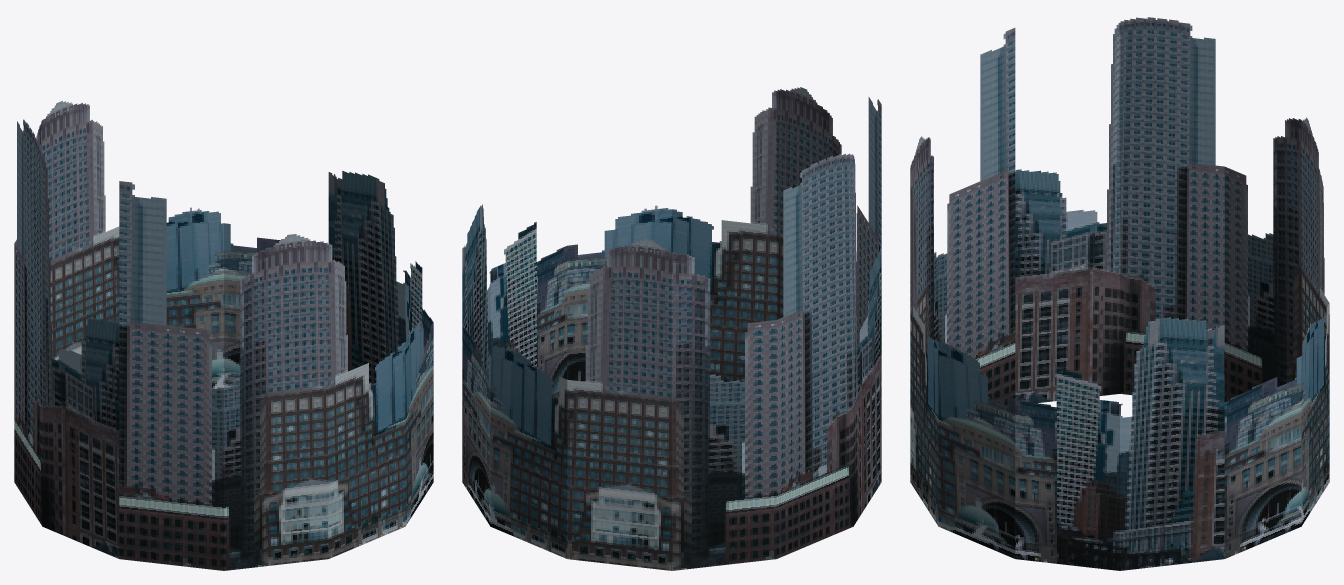
File: citySkybox.glb
3 views of the same model, side by side, from view 1: azimuth 30°, elevation 25°; view 2: azimuth 150°, elevation 25°; view 3: azimuth 270°, elevation 25° (orthographic).
Parts seen in each view (by area): view 1: Cylinder; view 2: Cylinder; view 3: Cylinder.
Part boxes in pixels (x1,y1,x2,y2): Cylinder: [14, 101, 433, 570]; Cylinder: [462, 87, 881, 570]; Cylinder: [910, 17, 1329, 570].
Size of the model in its own units: 2 by 2 by 2.
1 material, 1 textured.
